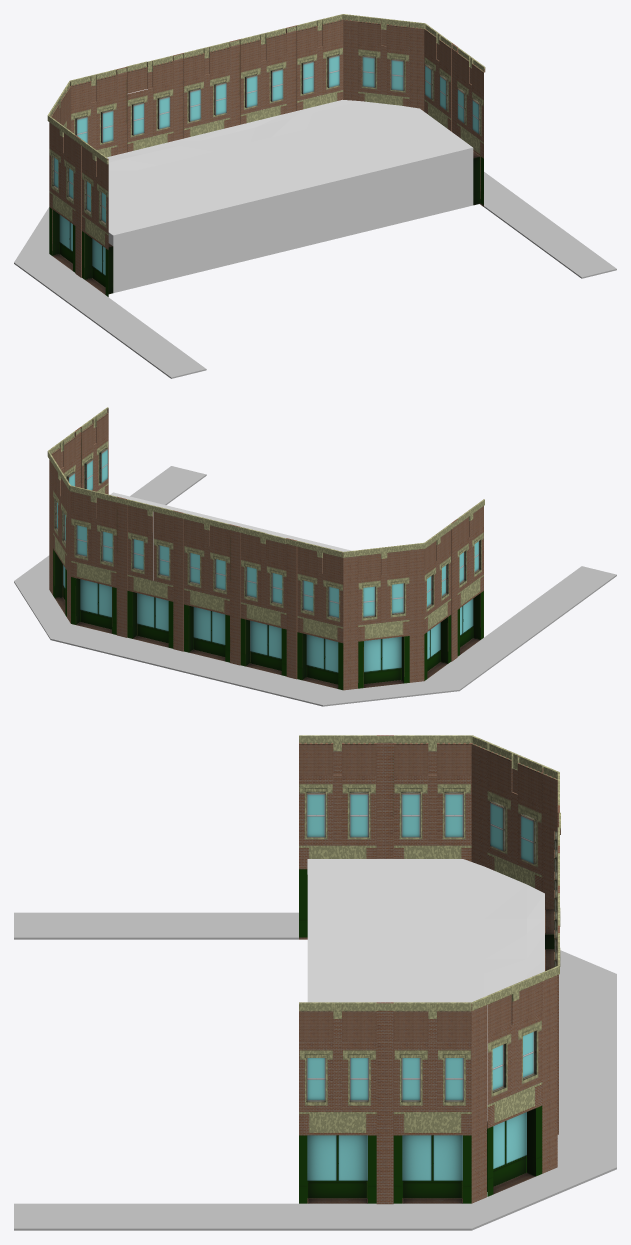
Rendered from building.fbx.
The picture shows the model from 3 angles, top to bottom: view 1: azimuth 30°, elevation 25°; view 2: azimuth 150°, elevation 25°; view 3: azimuth 270°, elevation 25°; orthographic projection. The views are drawn at different scales.
Visible parts, largest first — view 1: floor, sidewalk_square002, sidewalk_square004, large shop door010, large shop door008, 45 divider001, 45 divider, 2nd floor window 004, 2nd floor window 005, 2nd floor window 010, 2nd floor window 014, 2nd floor window 002 (+36 smaller); view 2: sidewalk_square003, sidewalk_square002, large shop door007, large shop door003, large shop door005, large shop door006, large shop door004, large shop door, 45 divider003, sidewalk_square004, 45 divider002, large shop door008 (+47 smaller); view 3: floor, sidewalk_square004, sidewalk_square003, sidewalk_square002, large shop door002, large shop door009, large shop door001, tall divider004, sidewalk_square, 45 divider001, 45 divider, 2nd floor window 008 (+36 smaller).
Boxes of the visible parts, bbox=[...] form: floor: bbox=[107, 99, 473, 292]; sidewalk_square002: bbox=[14, 254, 206, 378]; sidewalk_square004: bbox=[484, 172, 616, 278]; large shop door010: bbox=[82, 215, 113, 296]; large shop door008: bbox=[49, 191, 75, 272]; 45 divider001: bbox=[409, 21, 425, 111]; 45 divider: bbox=[342, 14, 359, 100]; 2nd floor window 004: bbox=[386, 46, 409, 97]; 2nd floor window 005: bbox=[358, 43, 380, 93]; 2nd floor window 010: bbox=[209, 69, 230, 122]; 2nd floor window 014: bbox=[96, 97, 117, 149]; 2nd floor window 002: bbox=[322, 41, 343, 94]; sidewalk_square003: bbox=[50, 624, 342, 706]; sidewalk_square002: bbox=[425, 566, 616, 690]; large shop door007: bbox=[358, 619, 409, 688]; large shop door003: bbox=[127, 574, 173, 648]; large shop door005: bbox=[240, 602, 286, 676]; large shop door006: bbox=[297, 616, 343, 690]; large shop door004: bbox=[184, 588, 229, 662]; large shop door: bbox=[71, 561, 116, 634]; 45 divider003: bbox=[409, 542, 425, 682]; sidewalk_square004: bbox=[14, 466, 206, 589]; 45 divider002: bbox=[342, 550, 358, 690]; large shop door008: bbox=[424, 598, 451, 680]; floor: bbox=[307, 859, 544, 1120]; sidewalk_square004: bbox=[14, 1203, 471, 1230]; sidewalk_square003: bbox=[557, 974, 616, 1167]; sidewalk_square002: bbox=[14, 912, 298, 939]; large shop door002: bbox=[393, 1112, 471, 1203]; large shop door009: bbox=[299, 1112, 376, 1203]; large shop door001: bbox=[487, 1082, 542, 1196]; tall divider004: bbox=[376, 1002, 393, 1204]; sidewalk_square: bbox=[471, 1167, 616, 1230]; 45 divider001: bbox=[471, 995, 488, 1203]; 45 divider: bbox=[542, 966, 559, 1173]; 2nd floor window 008: bbox=[393, 1041, 428, 1111].
Bounding box in the file's own units: 4334 × 1300 × 3493.
